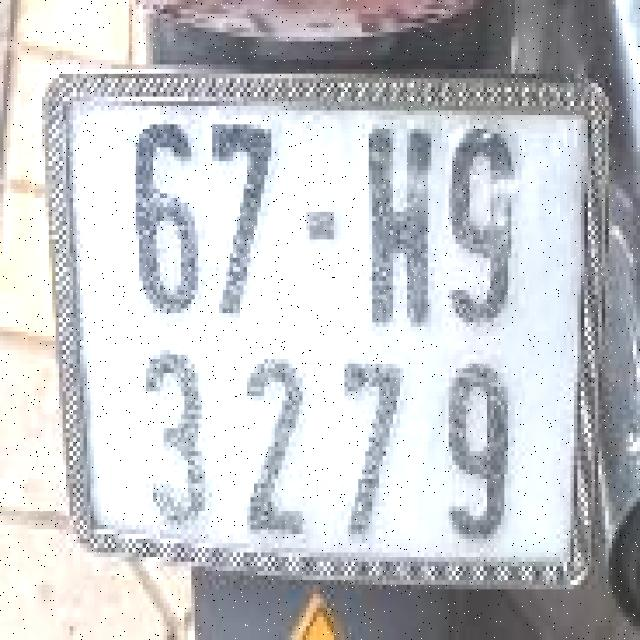2: (235, 341, 311, 543)
3: (141, 338, 217, 532)
6: (122, 113, 205, 320)
7: (205, 113, 278, 324), (336, 348, 408, 541)
9: (440, 118, 530, 348), (431, 348, 515, 546)
H: (353, 111, 433, 336)
